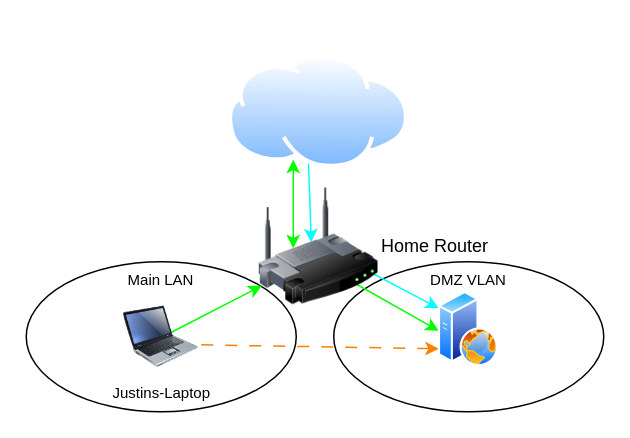
The diagram is 630 pixels wide and 438 high, and some of its shapes have lost their labels. The centre of each missing label's shape, as x and y in pixels:
"Internet" goes at [318,111].
"JG_RPi_WebServer" goes at [468,328].
